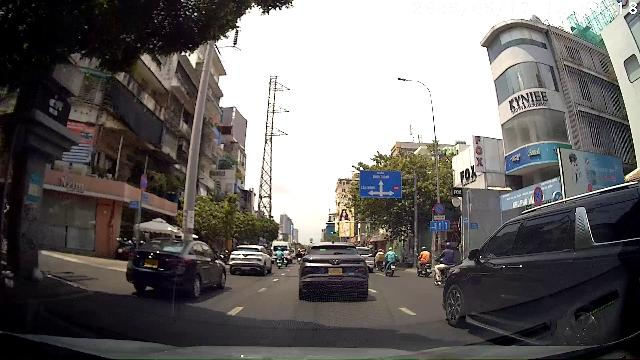130-cam-dung-va-do-xe: (533, 186, 543, 206)
131a-cam-do-xe: (434, 202, 444, 214)
